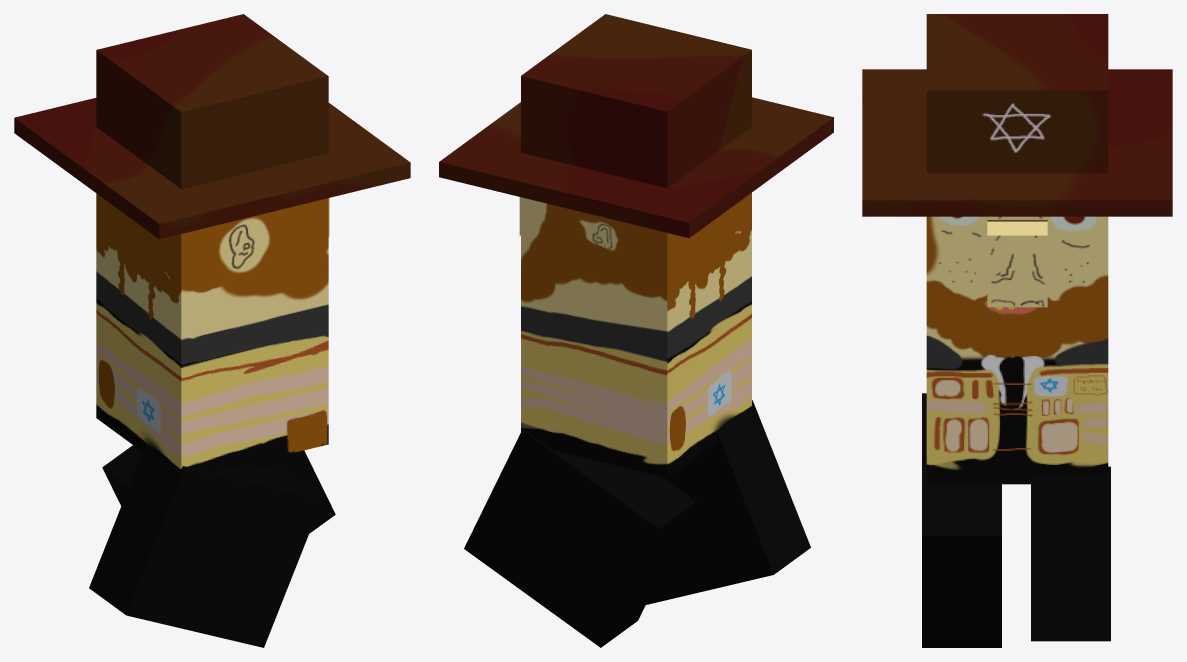
File: żyd.fbx
3 views of the same model, side by side, from view 1: azimuth 30°, elevation 25°; view 2: azimuth 150°, elevation 25°; view 3: azimuth 270°, elevation 25° (orthographic). The views are drawn at different scales.
Parts seen in each view (by area): view 1: Cube, Cube.002, Cube.001; view 2: Cube, Cube.001, Cube.002; view 3: Cube, Cube.002, Cube.001.
Part boxes in pixels (x1,y1,x2,y2): Cube: (14, 14, 410, 472); Cube.002: (89, 444, 322, 647); Cube.001: (102, 445, 335, 533); Cube: (439, 14, 833, 477); Cube.001: (464, 429, 695, 647); Cube.002: (646, 400, 810, 604); Cube: (862, 14, 1172, 484); Cube.002: (922, 393, 1001, 647); Cube.001: (1031, 466, 1110, 641).
Bounding box in the file's own units: 172 × 348 × 166.
